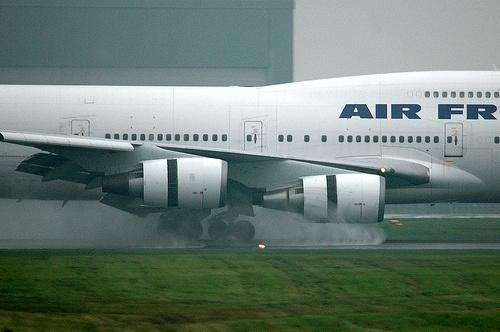aeroplane: (1, 69, 500, 243)
